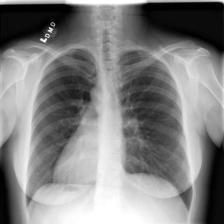normal: (21, 42, 198, 215)
